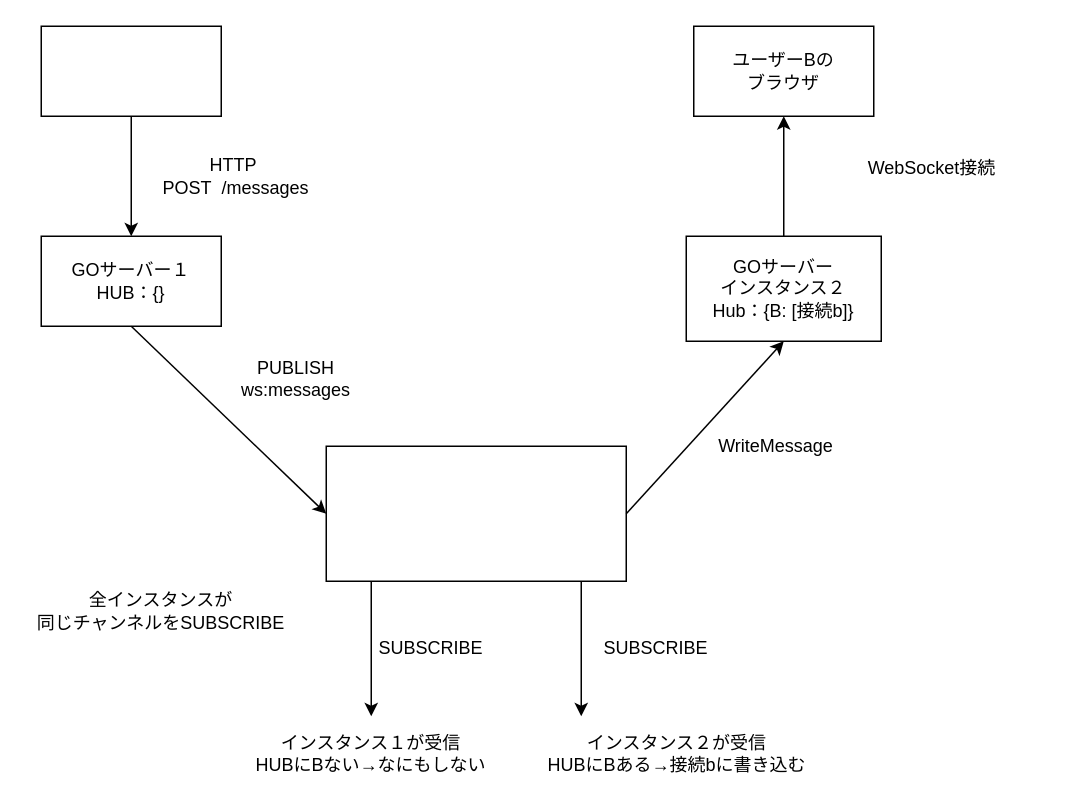
The diagram is 1077 pixels wide and 803 high, and some of its shapes have lost their labels. Each missing label, with the centre of its shape:
"REDIS ws:messages" belongs at point (475, 513).
"ユーザーAの ブラウザ" belongs at point (130, 70).
